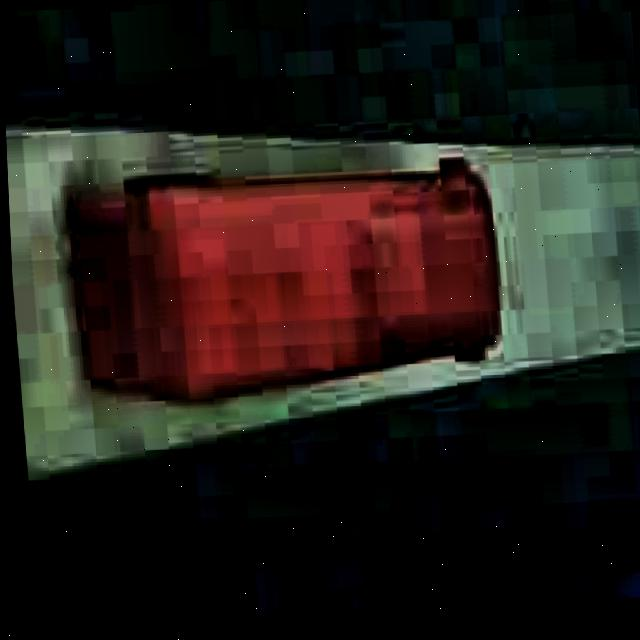bus: (65, 147, 510, 408)
